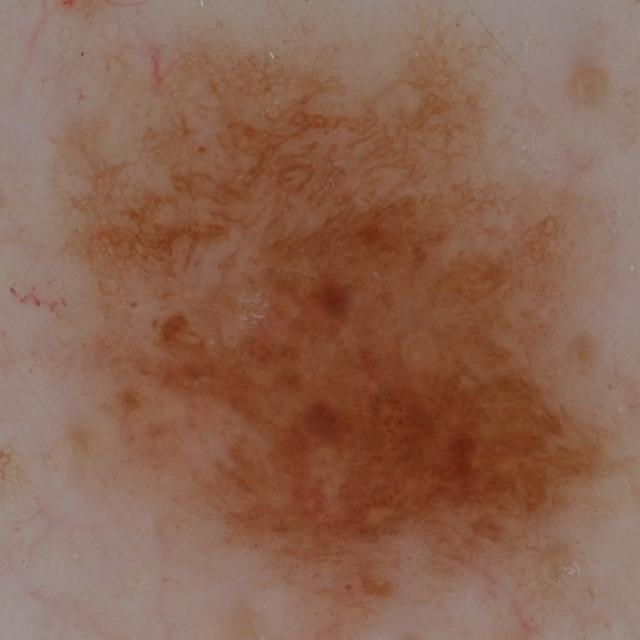Skin-Cancer Nevus: (1, 0, 640, 619)
